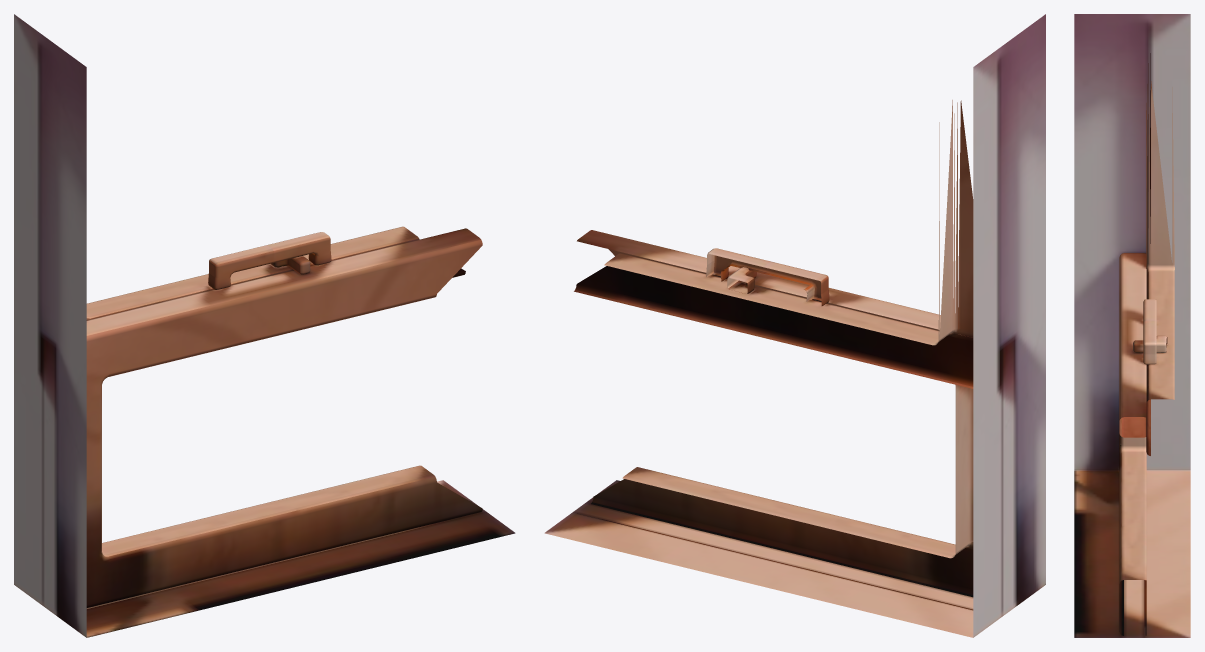
The model's file is window.glb.
3 views of the same model, side by side, from view 1: azimuth 30°, elevation 25°; view 2: azimuth 150°, elevation 25°; view 3: azimuth 270°, elevation 25° (orthographic). The views are drawn at different scales.
Visible parts, largest first — view 1: window; view 2: window; view 3: window.
Part boxes in pixels (x1=…): window: x1=14, y1=14, x2=515, y2=637; window: x1=544, y1=14, x2=1045, y2=637; window: x1=1074, y1=14, x2=1190, y2=637.
Size of the model in its own units: 2.38 by 3.02 by 0.6971.
1 material, 1 textured.
